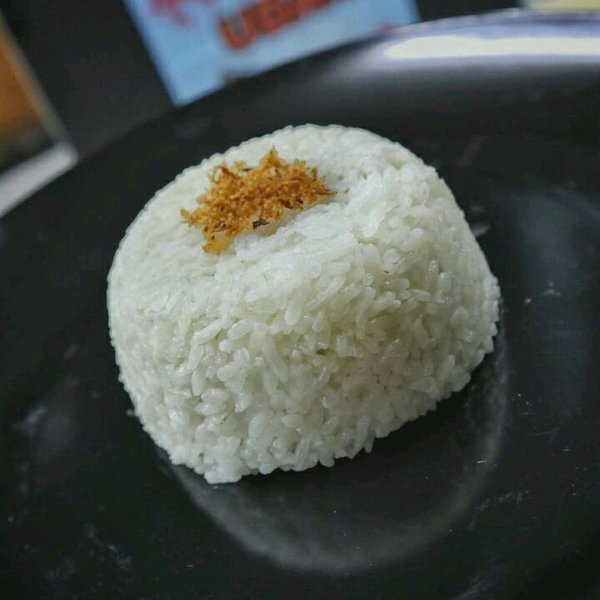Nasi Putih: (69, 73, 523, 509)
